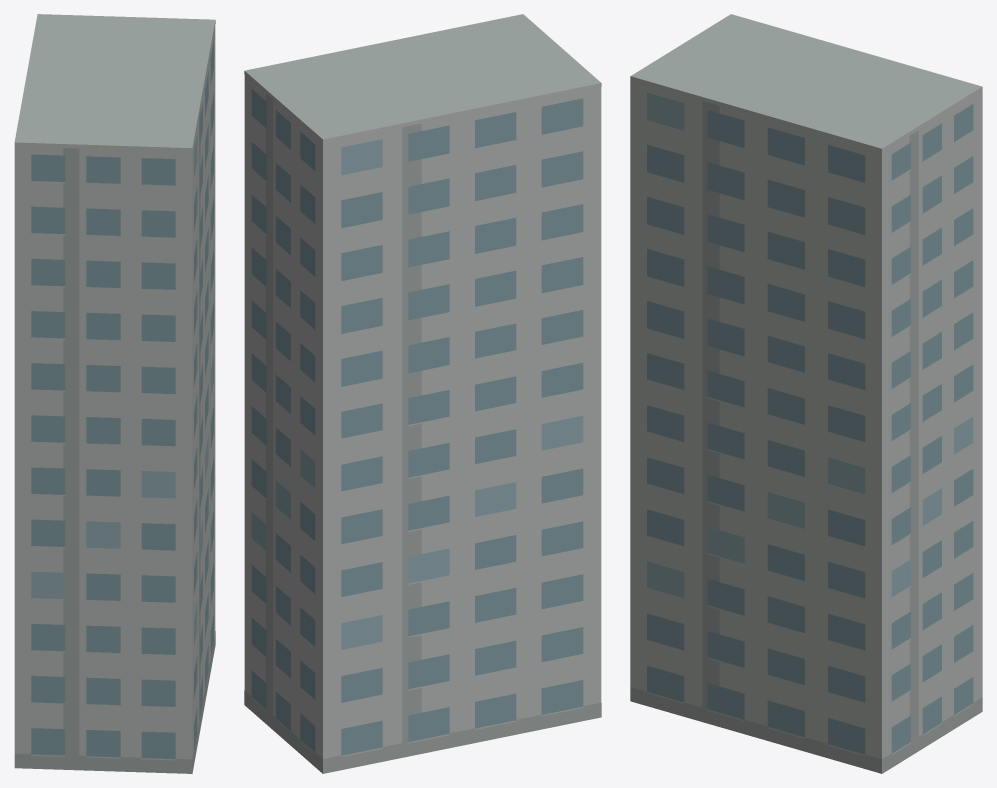
The model's file is residential-85e44f09-01de-4723-a8c4-d4c0e8e60769.glb.
3 views of the same model, side by side, from view 1: azimuth 30°, elevation 25°; view 2: azimuth 150°, elevation 25°; view 3: azimuth 270°, elevation 25° (orthographic).
Parts seen in each view (by area): view 1: residential-85e44f09-01de-4723-a8c4-d4c0e8e60769.tmp; view 2: residential-85e44f09-01de-4723-a8c4-d4c0e8e60769.tmp; view 3: residential-85e44f09-01de-4723-a8c4-d4c0e8e60769.tmp.
Part boxes in pixels (box(x1,y1,x2,y2)): residential-85e44f09-01de-4723-a8c4-d4c0e8e60769.tmp: box(14, 14, 215, 773); residential-85e44f09-01de-4723-a8c4-d4c0e8e60769.tmp: box(244, 14, 601, 773); residential-85e44f09-01de-4723-a8c4-d4c0e8e60769.tmp: box(630, 14, 982, 773).
Bounding box in the file's own units: 18.04 × 39 × 19.91.
